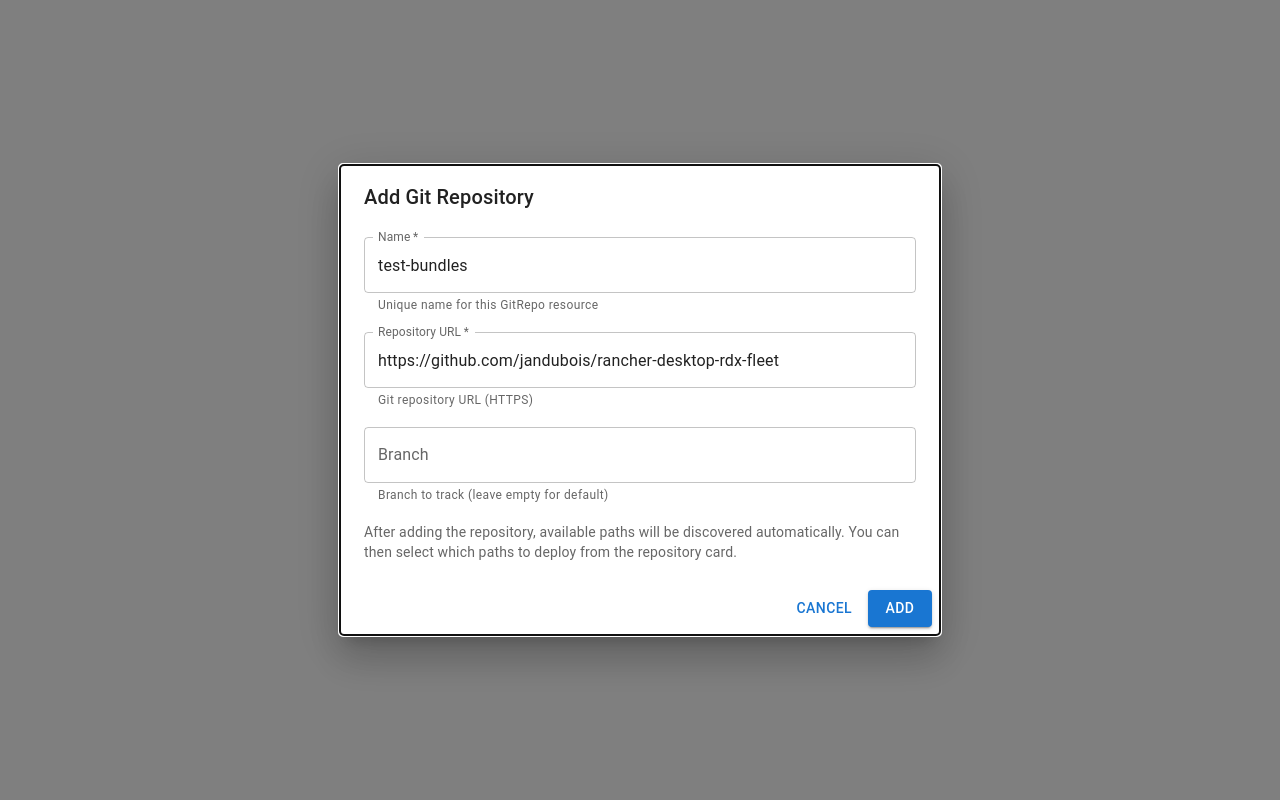
Scenario: AddRepoDialog › displays fallback error when add fails without error message
Click the button "Add" at {"x": 900, "y": 608}, box 868,590 -> 932,627
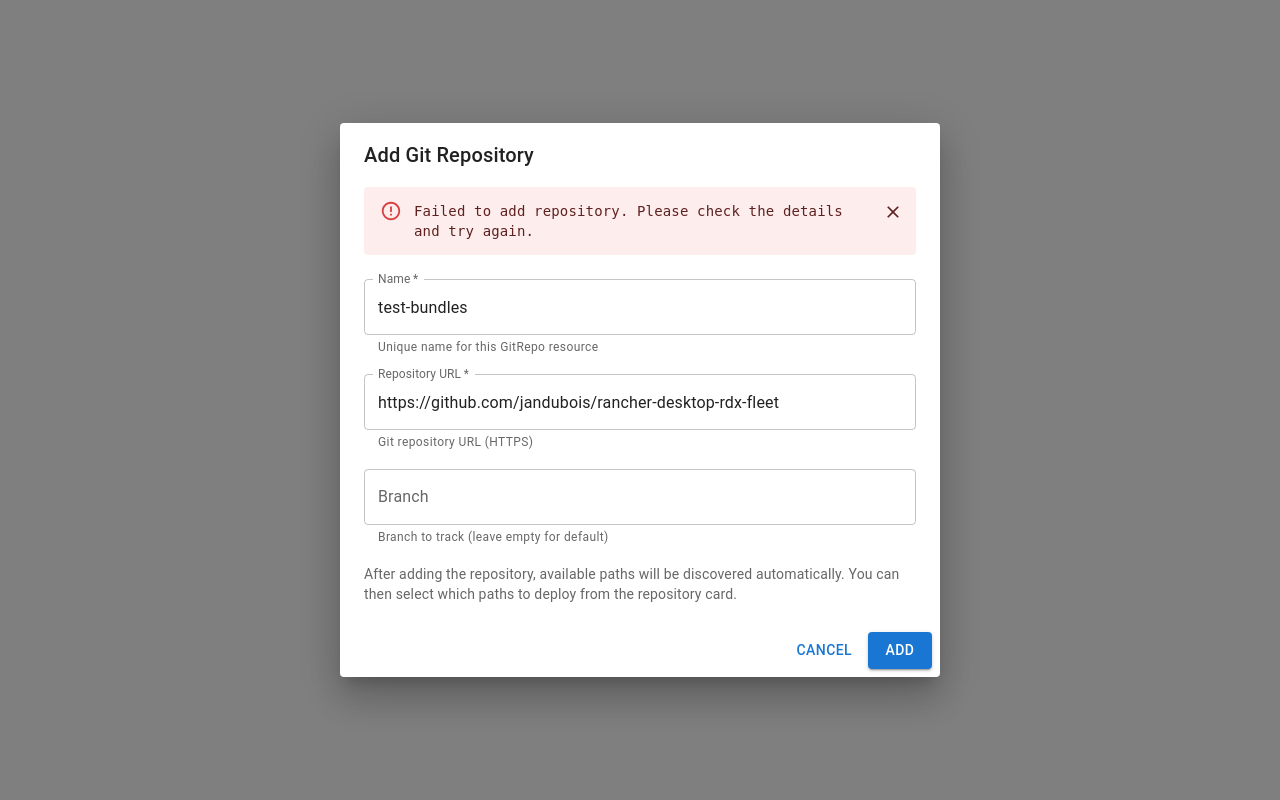
Expected: the text "Failed to add repository" is shown, 414,203 -> 852,239
